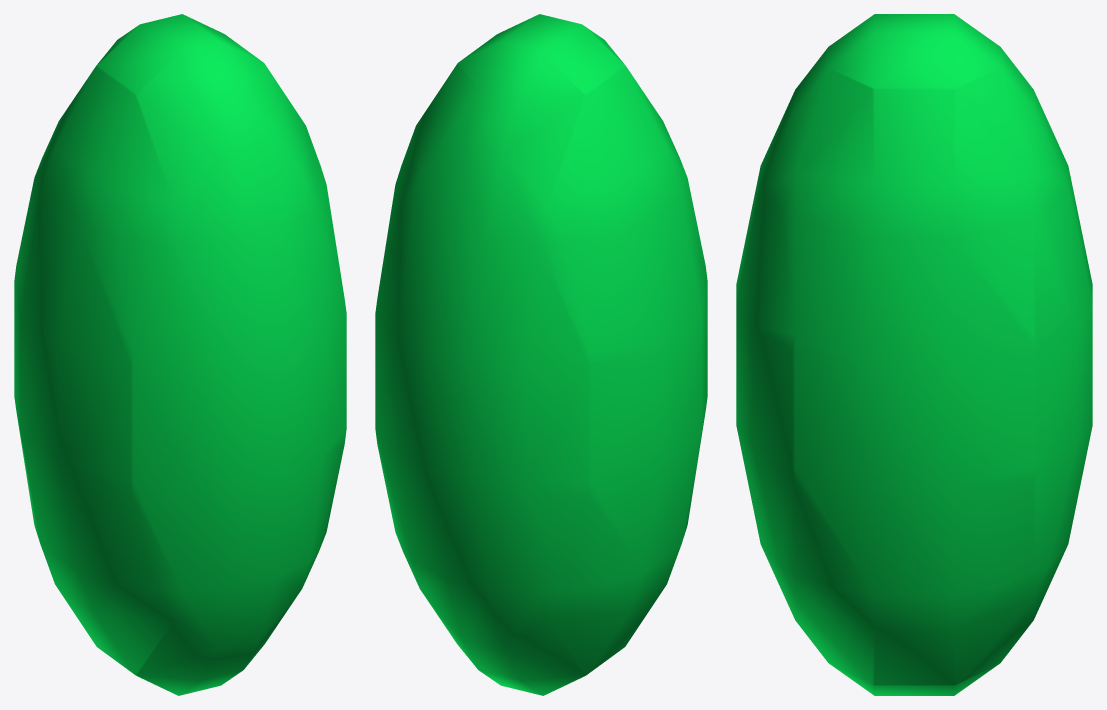
File: izumr5.fbx
3 views of the same model, side by side, from view 1: azimuth 30°, elevation 25°; view 2: azimuth 150°, elevation 25°; view 3: azimuth 270°, elevation 25° (orthographic). The views are drawn at different scales.
Visible parts, largest first — view 1: МСфера; view 2: МСфера; view 3: МСфера.
Part boxes in pixels (x1,y1,x2,y2): МСфера: (14, 14, 346, 695); МСфера: (375, 14, 707, 695); МСфера: (736, 14, 1092, 695).
Size of the model in its own units: 208 by 455 by 222.
